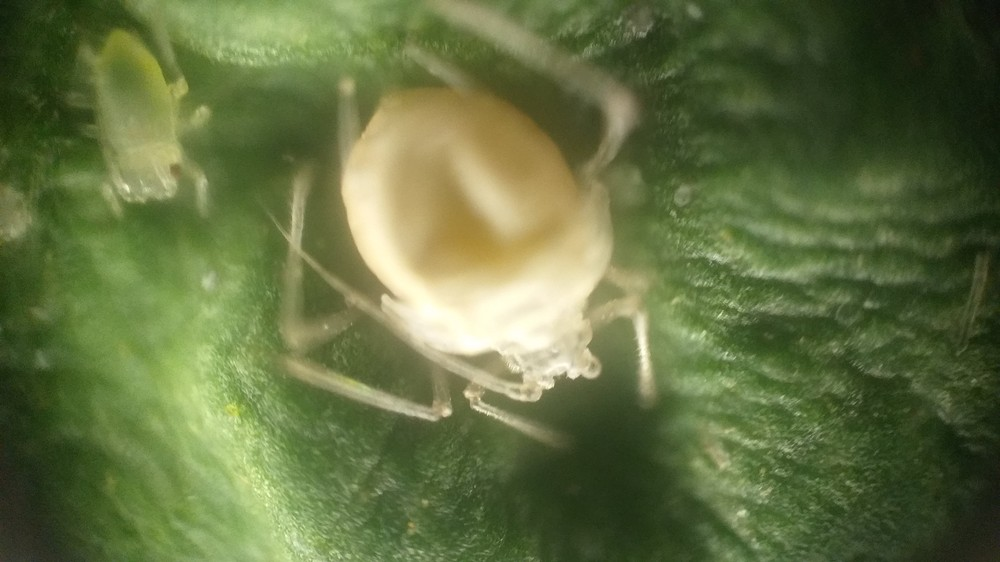Pulgon: (244, 29, 683, 452), (54, 21, 229, 227)
